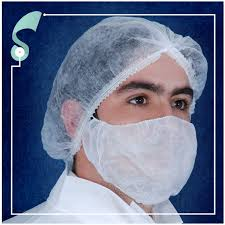with_mask_and_cap: (65, 21, 194, 201)
